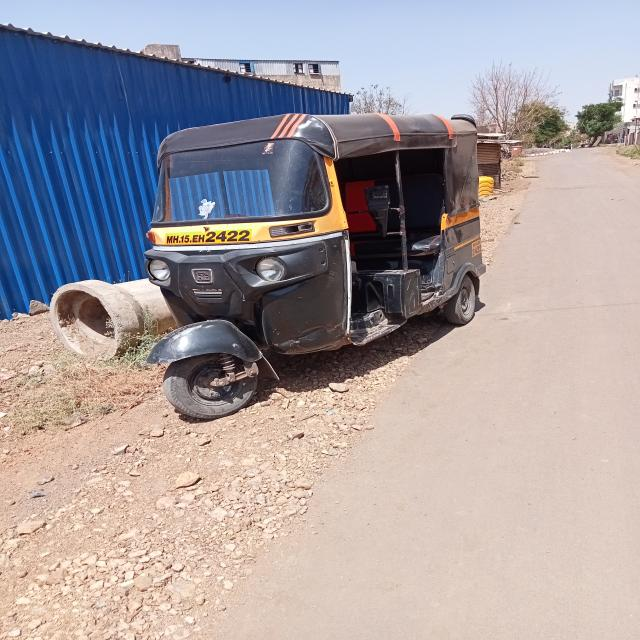Autorickshaw: (106, 96, 524, 418)
